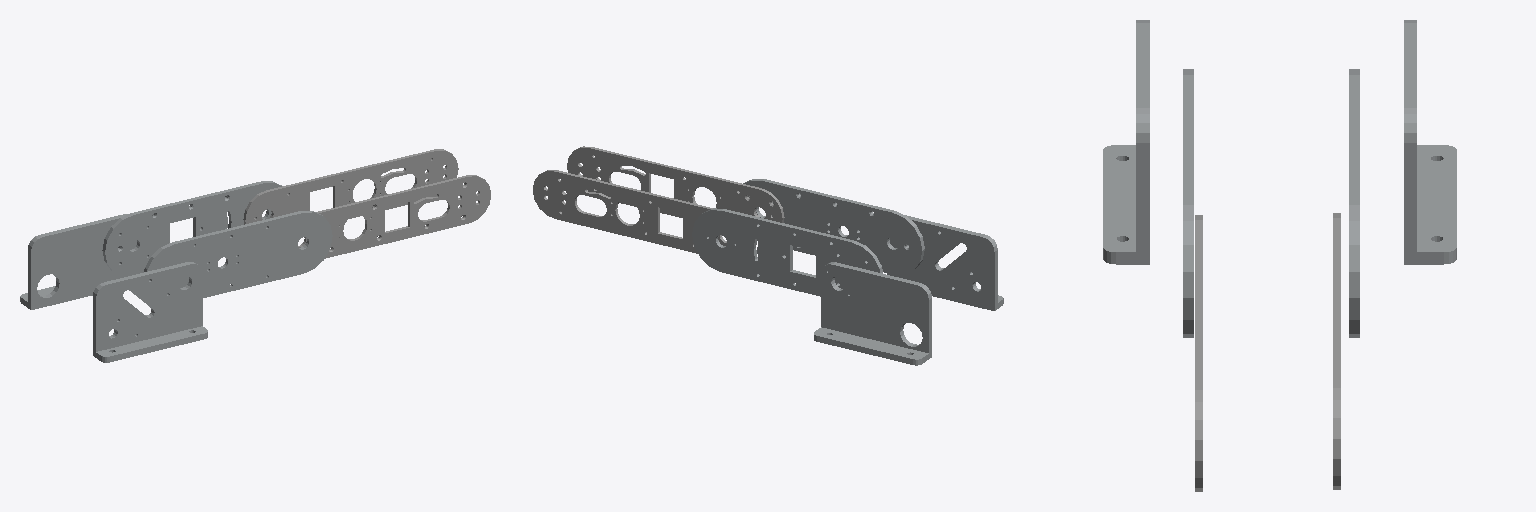
URDF robot description (simple_arm):
<?xml version="1.0"?>
<robot name="simple_arm">

  <!-- ================= BASE ================= -->
<!-- ================= BASE CENTER ================= -->
<link name="base_center"/>
<!-- ================= LEFT BASE ================= -->
<link name="base_plate_wall_left">

  <inertial>
    <mass value="0.719763"/>
    <origin xyz="0 0 0" rpy="0 0 0"/>
    <inertia ixx="0.00112313" ixy="5.68973e-06" ixz="6.66299e-05"
             iyy="0.00312909" iyz="0.000131819" izz="0.00213288"/>
  </inertial>

  <visual>
    <origin xyz="0 0 0" rpy="0 0 0"/>
    <geometry>
      <mesh filename="package://simple_arm_sim_config/meshes/Base Plate Wall Left.stl" scale="1 1 1"/>
    </geometry>
    <material name="gray">
      <color rgba="0.639216 0.654902 0.662745 1"/>
    </material>
  </visual>

  <collision>
    <origin xyz="0 0 0" rpy="0 0 0"/>
    <geometry>
      <mesh filename="package://simple_arm_sim_config/meshes/Base Plate Wall Left.stl" scale="1 1 1"/>
    </geometry>
  </collision>

</link>

<!-- ================= RIGHT BASE ================= -->
<link name="base_plate_wall_right">

  <inertial>
    <mass value="0.692201"/>
    <origin xyz="0 0 0" rpy="0 0 0"/>
    <inertia ixx="0.00103589" ixy="-3.02278e-07" ixz="-2.04069e-05"
             iyy="0.00309234" iyz="9.57846e-05" izz="0.00214162"/>
  </inertial>

  <visual>
    <origin xyz="0 0 0" rpy="0 0 0"/>
    <geometry>
      <mesh filename="package://simple_arm_sim_config/meshes/Base Plate Wall Right.stl" scale="1 1 1"/>
    </geometry>
    <material name="gray">
      <color rgba="0.639216 0.654902 0.662745 1"/>
    </material>
  </visual>

  <collision>
    <origin xyz="0 0 0" rpy="0 0 0"/>
    <geometry>
      <mesh filename="package://simple_arm_sim_config/meshes/Base Plate Wall Right.stl" scale="1 1 1"/>
    </geometry>
  </collision>

</link>

<!-- ================= SYMMETRIC PLACEMENT ================= -->


<!-- LEFT -->
<joint name="base_left_joint" type="fixed">
  <parent link="base_center"/>
  <child link="base_plate_wall_left"/>
  <origin xyz="0 0.1 0" rpy="0 0 0"/>
</joint>

<!-- RIGHT (mirrored + rotated) -->
<joint name="base_right_joint" type="fixed">
  <parent link="base_center"/>
  <child link="base_plate_wall_right"/>
  <origin xyz="0 -0.1 0" rpy="0 0 3.14159"/>
</joint>

  <!-- ================= world and Joint base movement================= -->

<link name="world"/>

<joint name="base_rotation" type="revolute">
  <parent link="world"/>
  <child link="base_center"/>

  <origin xyz="0 0 0" rpy="0 0 0"/>

  <axis xyz="0 0 1"/>

  <limit lower="-3.14159" upper="3.14159" effort="50" velocity="2"/>
</joint>
  <!-- ================= UPPER ARM ================= -->
<link name="truss_right">
    <inertial>
        <mass value="0.355071" />
        <origin xyz="-0.112971 -9.64101e-08 0.003996" rpy="0 -0 0" />
        <inertia ixx="0.00032557" ixy="5.69405e-09" ixz="-4.80543e-08" iyy="0.00307457" iyz="1.36979e-13" izz="0.00339635" />
     </inertial>
     <visual>
        <origin xyz="-0.23 -6.4294e-19 -0.008" rpy="0 -0 0" />
        <geometry>
            <mesh filename="package://simple_arm_sim_config/meshes/Truss Right.stl" scale="1 1 1" />
        </geometry>
        <material name="0.639216_0.654902_0.662745_0.000000_0.000000">
            <texture />
            <color rgba="0.639216 0.654902 0.662745 1" />
        </material>
    </visual>
  <collision>
    <origin xyz="-0.23 0 -0.007" rpy="0 0 0"/>
    <geometry>
      <mesh filename="package://simple_arm_sim_config/meshes/Truss Right.stl" scale="1 1 1" />
    </geometry>
  </collision>
</link>


<link name="truss_left">
    <inertial>
        <mass value="0.379638" />
        <origin xyz="-0.11448 -5.18783e-18 0.00400374" rpy="0 -0 0" />
        <inertia ixx="0.000330711" ixy="0" ixz="4.59102e-08" iyy="0.00312125" iyz="0" izz="0.00344792" />
    </inertial>
    <visual>
        <origin xyz="-0.23 -6.4294e-19 0" rpy="0 -0 0" />
        <geometry>
           <mesh filename="package://simple_arm_sim_config/meshes/Truss Left.stl" scale="1 1 1" />
        </geometry>
        <material name="0.639216_0.654902_0.662745_0.000000_0.000000">
             <texture />
             <color rgba="0.639216 0.654902 0.662745 1" />
        </material>
    </visual>
  <collision>
    <origin xyz="-0.23 0 0" rpy="0 0 0"/>
    <geometry>
      <mesh filename="package://simple_arm_sim_config/meshes/Truss Left.stl" scale="1 1 1" />
    </geometry>
  </collision>
</link>
<link name="truss_group"/>

  
<joint name="left_truss_joint" type="fixed">
  <parent link="truss_group"/>
  <child link="truss_left"/>
  <origin xyz="0.23 0 -0.07" rpy="0 0 0"/>
</joint>

<joint name="right_truss_joint" type="fixed">
  <parent link="truss_group"/>
  <child link="truss_right"/>
  <origin xyz="0.23 0 0.07" rpy="0 0 0"/>
</joint>

  <!-- ================= SINGLE CONTROLLING JOINT ================= -->
<joint name="truss_main_joint" type="revolute">
  <parent link="base_center"/>   <!-- or your base link -->
  <child link="truss_group"/>

  <!-- hinge location -->
  <origin xyz="0.065 0 0.03" rpy="1.5708 0 0"/>

  <!-- up/down motion -->
  <axis xyz="0 0 1"/>

  <limit lower="-1.57" upper="3.14" effort="50" velocity="2"/>
</joint>
  <!-- ================= FOREARM ================= -->

    <link name="left_elbow_truss">
        <inertial>
            <mass value="0.208436" />
            <origin xyz="0 0 0" rpy="0 -0 0" />
            <inertia ixx="0.00270966" ixy="8.09913e-08" ixz="-3.87317e-09" iyy="0.000126764" iyz="1.85517e-09" izz="0.00258414" />
        </inertial>
        <visual>
            <origin xyz="0 0 0" rpy="0 -0 0" />
            <geometry>
                <mesh filename="package://simple_arm_sim_config/meshes/Left Elbow Truss.stl" scale="1 1 1" />
            </geometry>
            <material name="0.647059_0.647059_0.647059_0.000000_0.000000">
                <texture />
                <color rgba="0.647059 0.647059 0.647059 1" />
            </material>
        </visual>
      <collision>
          <origin xyz="0 0 0" rpy="0 0 0"/>
         <geometry>
           <mesh filename="package://simple_arm_sim_config/meshes/Left Elbow Truss.stl" scale="1 1 1" />
         </geometry>
      </collision>
    </link>

   <link name="right_elbow_truss">
        <inertial>
            <mass value="0.210163" />
            <origin xyz="0.003 -0.136987 -0.00808521" rpy="0 -0 0" />
            <inertia ixx="0.00273336" ixy="0" ixz="0" iyy="0.000127711" iyz="5.8663e-07" izz="0.00260691" />
        </inertial>
        <visual>
            <origin xyz="-0.006 -0.134 -0.008" rpy="0 -0 0" />
            <geometry>
                <mesh filename="package://simple_arm_sim_config/meshes/Right Elbow Truss.stl" scale="1 1 1" />
            </geometry>
            <material name="0.647059_0.647059_0.647059_0.000000_0.000000">
                <texture />
                <color rgba="0.647059 0.647059 0.647059 1" />
            </material>
        </visual>
      <collision>
          <origin xyz="-0.006 -0.127 -0.005" rpy="0 0 0"/>
         <geometry>
           <mesh filename="package://simple_arm_sim_config/meshes/Right Elbow Truss.stl" scale="1 1 1" />
         </geometry>
      </collision>
    </link>
  
<link name="Elbowgroup"/>

  
<joint name="left_elbow" type="fixed">
  <parent link="Elbowgroup"/>
  <child link="left_elbow_truss"/>
  <origin xyz="0.15 0.025 0" rpy="3.14159 0 1.5708 "/>
</joint>

<joint name="right_elbow" type="fixed">
  <parent link="Elbowgroup"/>
  <child link="right_elbow_truss"/>
  <origin xyz="0.285 -0.078 -0.01" rpy="3.14159 0 1.5708 "/>
</joint>

  <!-- ================= SINGLE CONTROLLING JOINT ================= -->
<joint name="truss_main_elbow" type="revolute">
  <parent link="truss_group"/>   <!-- or your base link -->
  <child link="Elbowgroup"/>

  <!-- hinge location -->
  <origin xyz="0.23 0 0.03" rpy="1.5708 0 0"/>

  <!-- up/down motion -->
  <axis xyz="0 1 0"/>

  <limit lower="-3.14" upper="3.14" effort="50" velocity="2"/>
</joint>

  <!-- ================= JOINTS ================= -->

</robot>

--- Facts derived from the render (not from the file) ---
Views: 3 orthographic renders of the robot side by side, from view 1: azimuth 30°, elevation 25°; view 2: azimuth 150°, elevation 25°; view 3: azimuth 270°, elevation 25°.
Robot: simple_arm — 10 links, 9 joints (3 revolute, 6 fixed); root link world; default pose: every joint at zero.
Links seen in each view (by area): view 1: truss_right, base_plate_wall_right, left_elbow_truss, truss_left, base_plate_wall_left, right_elbow_truss; view 2: base_plate_wall_left, truss_left, truss_right, right_elbow_truss, base_plate_wall_right, left_elbow_truss; view 3: base_plate_wall_left, base_plate_wall_right, truss_right, truss_left, left_elbow_truss, right_elbow_truss.
Link boxes in pixels (x1,y1,x2,y2): truss_right: (144,211,332,297); base_plate_wall_right: (93,262,207,362); left_elbow_truss: (298,175,490,258); truss_left: (102,181,281,275); base_plate_wall_left: (20,214,136,309); right_elbow_truss: (243,149,458,226); base_plate_wall_left: (814,262,931,365); truss_left: (692,208,882,296); truss_right: (739,179,924,274); right_elbow_truss: (533,170,726,253); base_plate_wall_right: (887,215,1003,310); left_elbow_truss: (567,146,784,222); base_plate_wall_left: (1404,20,1456,264); base_plate_wall_right: (1103,20,1149,264); truss_right: (1183,69,1193,337); truss_left: (1349,69,1359,337); left_elbow_truss: (1195,215,1202,491); right_elbow_truss: (1333,213,1340,489).
Bounding box of the posed robot: 0.731 × 0.265 × 0.142 m (x, y, z).
Meshes: 6 distinct files referenced, 6 mesh visuals loaded (6 ASCII STL).
